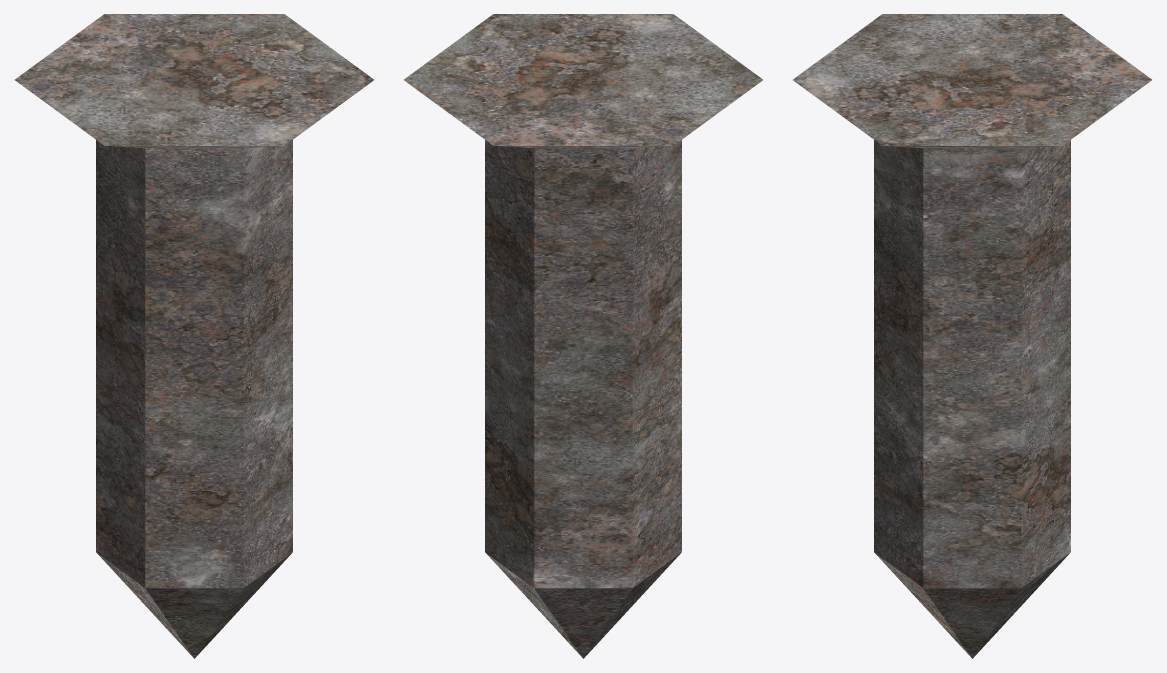
Rendered from RustyNail.fbx.
The picture shows the model from 3 angles, left to right: view 1: azimuth 30°, elevation 25°; view 2: azimuth 150°, elevation 25°; view 3: azimuth 270°, elevation 25°; orthographic projection.
Visible parts, largest first — view 1: Nail; view 2: Nail; view 3: Nail.
Part boxes in pixels (<box>): Nail: <box>15,14,373,658</box>; Nail: <box>404,14,762,658</box>; Nail: <box>793,14,1151,658</box>.
Size of the model in its own units: 2.55 by 5.22 by 2.94.
1 material, 1 textured.
